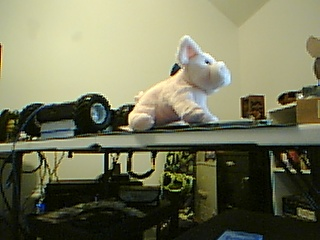piggy: (127, 33, 232, 134)
